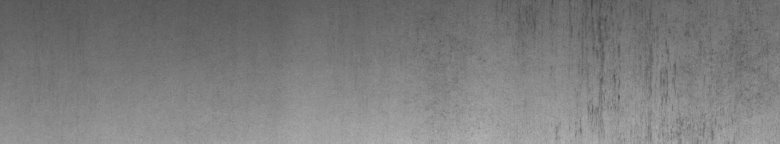ka: (569, 4, 676, 136)
